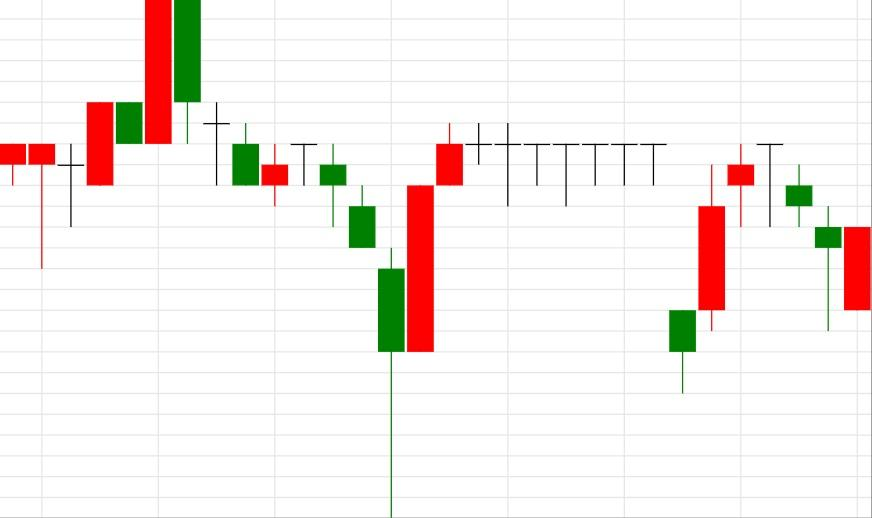three_black_crows_fall: (263, 141, 405, 518)
